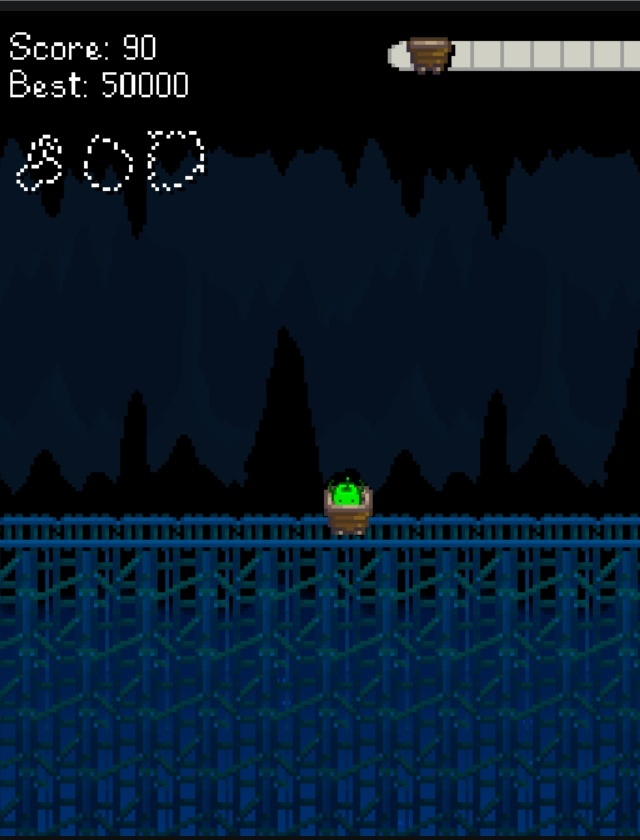minecart: (324, 476, 371, 534)
tracks: (0, 506, 311, 554), (386, 501, 640, 554)
